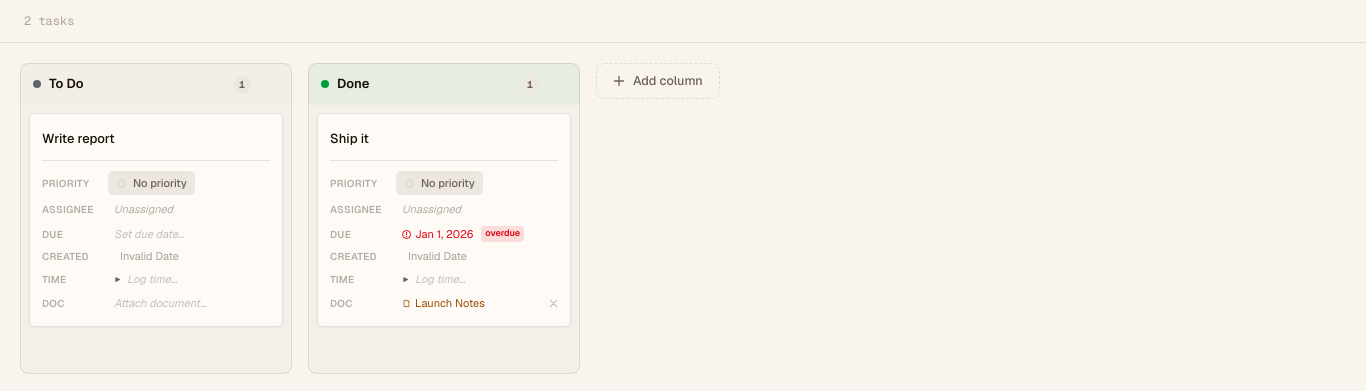
it: KanbanView › reverts a column rename when the persist fails
This screenshot has width=1366, height=391.
Click the button "To Do": x=137, y=84 [49,74,225,94]
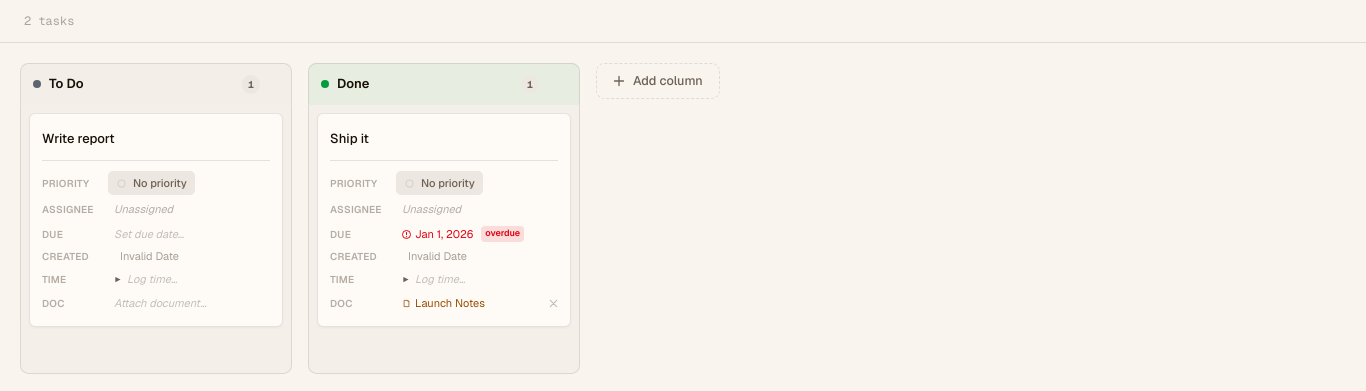
Replace the text in the field showing "To Do" with "In Progress": x=142, y=84 [49,74,234,94]
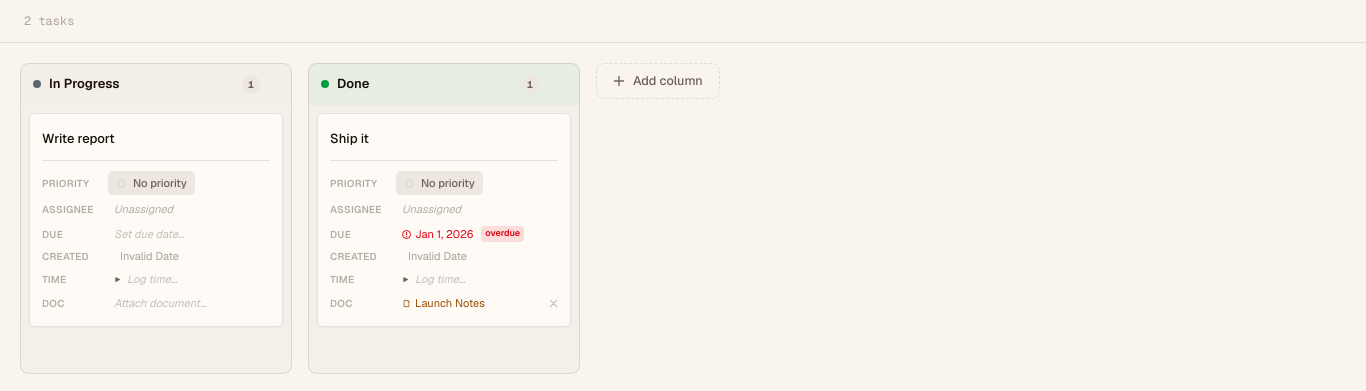
Press Enter in the field showing "To Do", box [49,74,234,94]
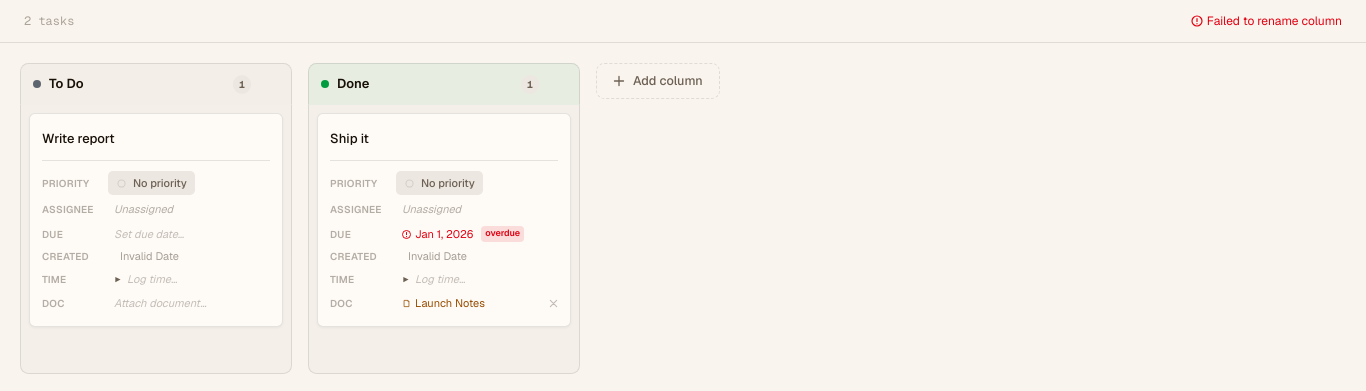
Expected: the text "Failed to rename column" is shown, [1191,12,1342,30]
